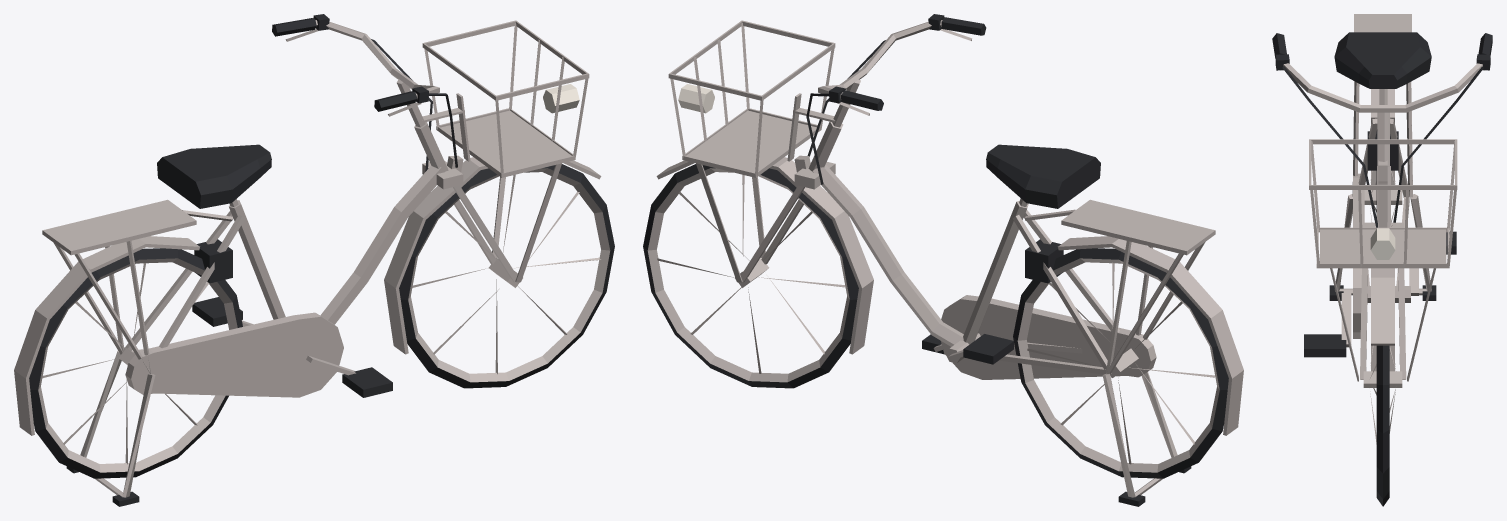
Rendered from SM_Street_Bicycle_Plain_Silver_01.gltf.
The picture shows the model from 3 angles, left to right: view 1: azimuth 30°, elevation 25°; view 2: azimuth 150°, elevation 25°; view 3: azimuth 270°, elevation 25°; orthographic projection.
Parts seen in each view (by area): view 1: SM_Street_Bicycle_Plain_Silver_01; view 2: SM_Street_Bicycle_Plain_Silver_01; view 3: SM_Street_Bicycle_Plain_Silver_01.
Boxes of the visible parts, x1,y1,x2,y2 form: SM_Street_Bicycle_Plain_Silver_01: (14,14,614,506); SM_Street_Bicycle_Plain_Silver_01: (643,14,1243,506); SM_Street_Bicycle_Plain_Silver_01: (1272,14,1492,506).
Bounding box in the file's own units: 1.8 × 1.07 × 0.5707.
1 material, 1 textured.
